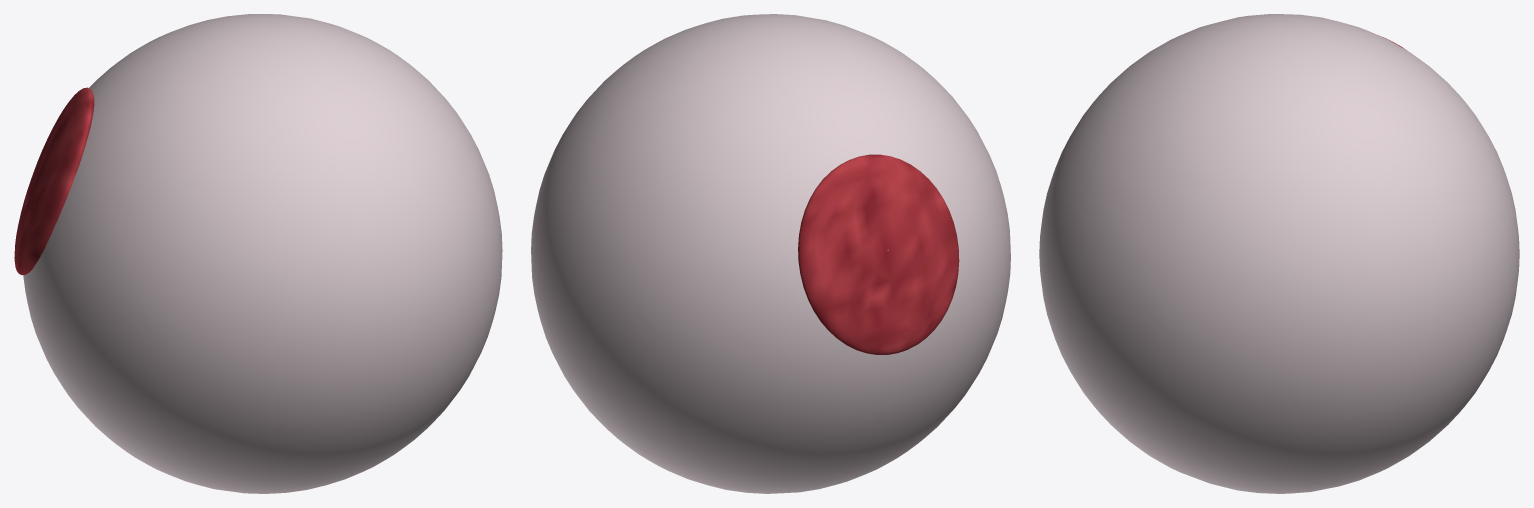
Rendered from hafta_29.glb.
The picture shows the model from 3 angles, left to right: view 1: azimuth 30°, elevation 25°; view 2: azimuth 150°, elevation 25°; view 3: azimuth 270°, elevation 25°; orthographic projection.
Visible parts, largest first — view 1: Amniyon_kesesi, Plasenta; view 2: Amniyon_kesesi, Plasenta; view 3: Amniyon_kesesi.
Part boxes in pixels (left/top/right/bottom): Amniyon_kesesi: left=23, top=14, right=502, bottom=493; Plasenta: left=14, top=87, right=94, bottom=275; Amniyon_kesesi: left=531, top=14, right=1010, bottom=493; Plasenta: left=798, top=154, right=959, bottom=354; Amniyon_kesesi: left=1039, top=14, right=1519, bottom=493.
Bounding box in the file's own units: 1.61 × 1.61 × 1.61.
